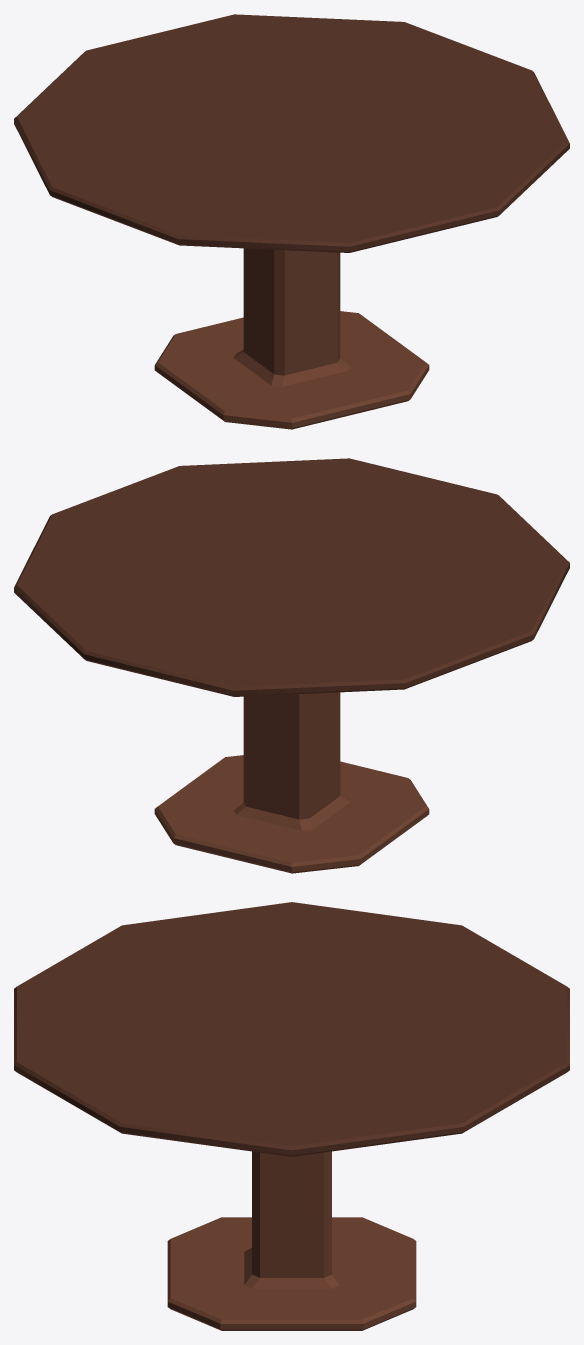
The model's file is tavolo salone.fbx.
3 renders of one model, top to bottom at view 1: azimuth 30°, elevation 25°; view 2: azimuth 150°, elevation 25°; view 3: azimuth 270°, elevation 25°, orthographic. The views are drawn at different scales.
Visible parts, largest first — view 1: Tavolo_Salone; view 2: Tavolo_Salone; view 3: Tavolo_Salone.
Part boxes in pixels (x1,y1,x2,y2): Tavolo_Salone: [14, 14, 569, 429]; Tavolo_Salone: [14, 458, 569, 873]; Tavolo_Salone: [14, 902, 569, 1330].
Bounding box in the file's own units: 38.76 × 18.68 × 36.86.
